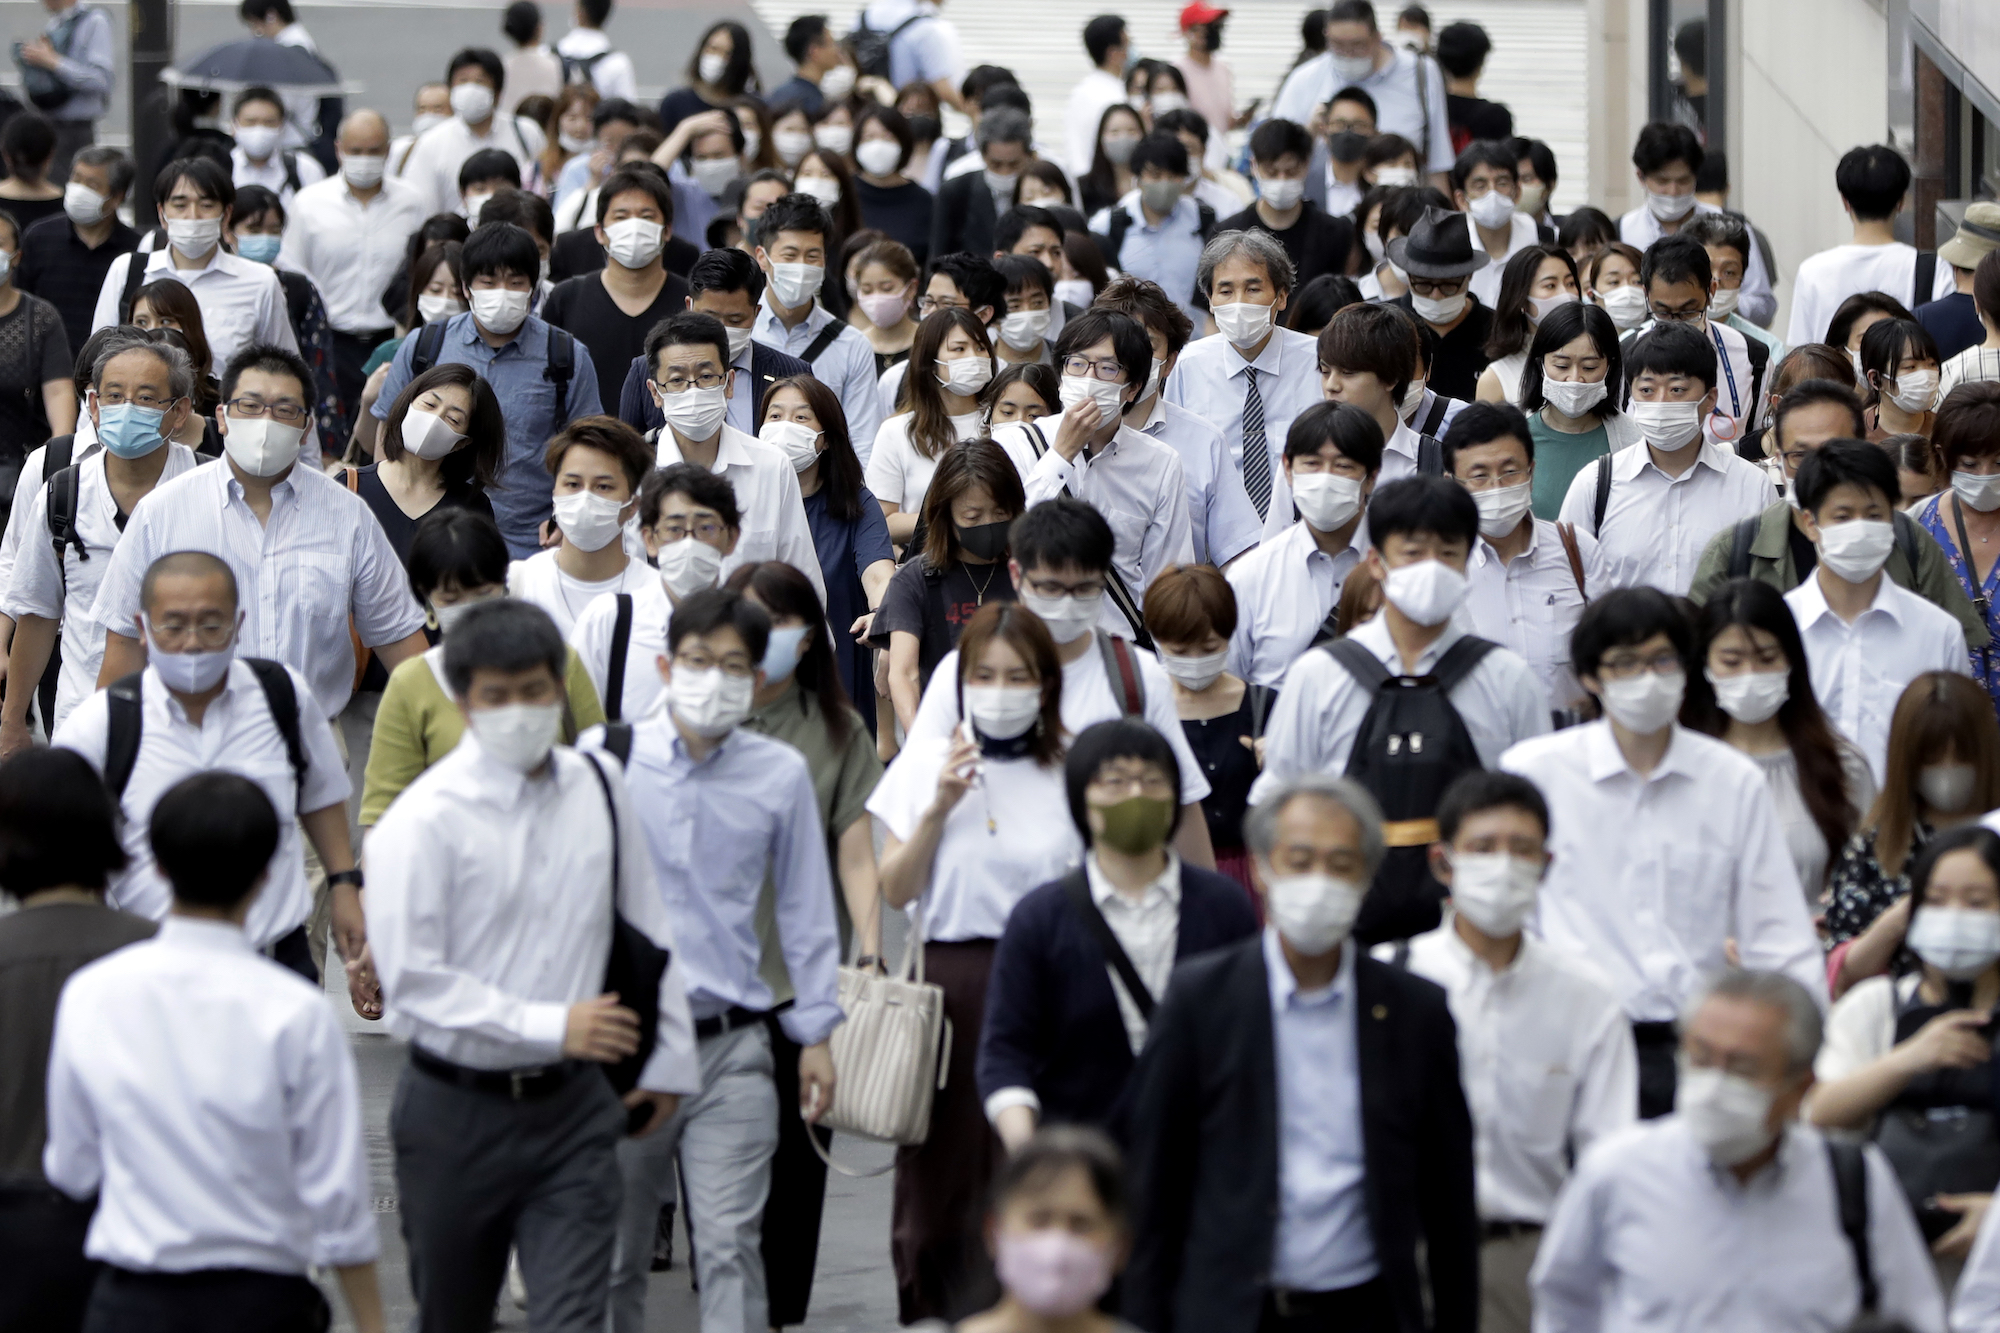with_incorrect_mask: (160, 592, 223, 683)
with_mask: (985, 1156, 1140, 1328), (1675, 990, 1783, 1174), (1256, 810, 1365, 936), (1907, 837, 2000, 984), (456, 649, 572, 764), (678, 624, 766, 742), (1469, 820, 1544, 946), (1078, 763, 1181, 848), (1606, 639, 1688, 742), (1387, 520, 1471, 616), (556, 461, 635, 560), (657, 483, 727, 594), (599, 181, 675, 283), (761, 219, 830, 322), (107, 370, 185, 458), (231, 385, 307, 471), (978, 626, 1040, 733), (1821, 474, 1888, 569), (948, 475, 1012, 568), (650, 360, 735, 427), (765, 385, 823, 481), (406, 389, 485, 458), (1529, 342, 1609, 411), (1719, 626, 1781, 714), (1057, 335, 1119, 417), (1294, 444, 1360, 519), (1210, 264, 1275, 342), (1407, 250, 1471, 329), (1641, 144, 1698, 228), (851, 257, 910, 335), (921, 326, 988, 392), (1468, 156, 1519, 237), (1255, 139, 1309, 216), (1950, 442, 2000, 523), (1653, 369, 1706, 448), (1141, 146, 1189, 226), (61, 160, 119, 228), (338, 132, 398, 194), (465, 274, 532, 327), (1602, 247, 1648, 325), (1886, 339, 1936, 406), (178, 180, 223, 254), (237, 197, 285, 264), (448, 60, 496, 121)
without_mask: (1317, 339, 1379, 416)
